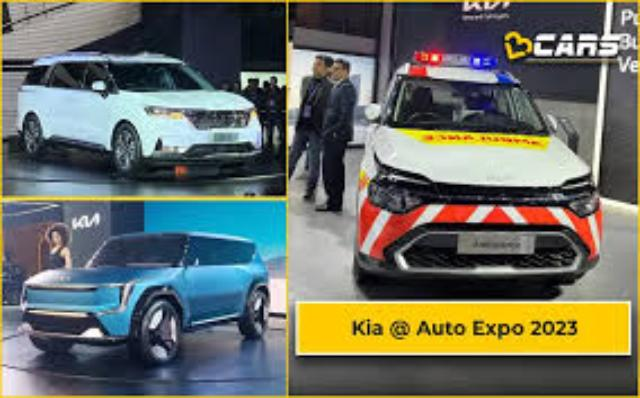kia: (353, 51, 602, 285), (20, 232, 272, 366), (16, 51, 262, 177)
